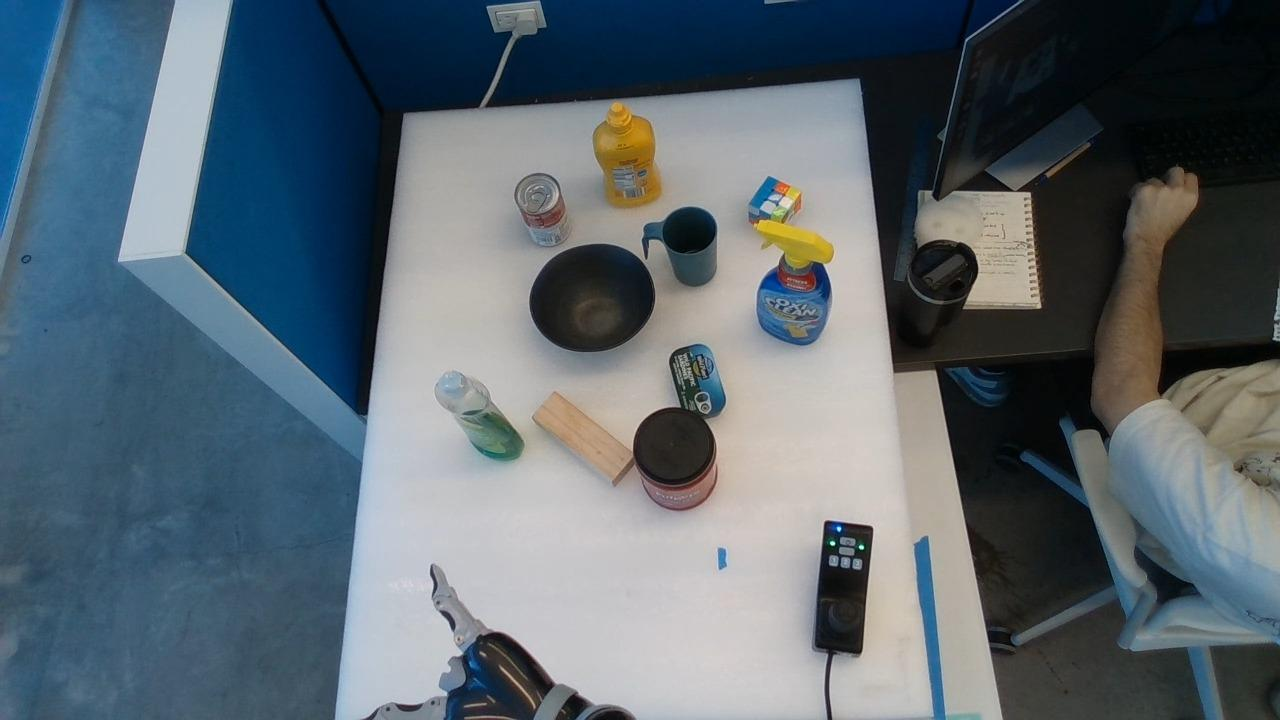bowl: (530, 244, 654, 351)
cleanser: (436, 371, 522, 459)
coffee_can: (633, 408, 717, 509)
jaco: (365, 565, 634, 719)
meat_can: (669, 344, 725, 417)
mug: (642, 207, 716, 285)
mustard_bottle: (593, 102, 660, 206)
rubik: (748, 176, 801, 224)
soup_can: (515, 173, 569, 246)
windex: (755, 221, 833, 343)
wooden_block: (533, 392, 633, 485)
workspace: (335, 81, 927, 717)
